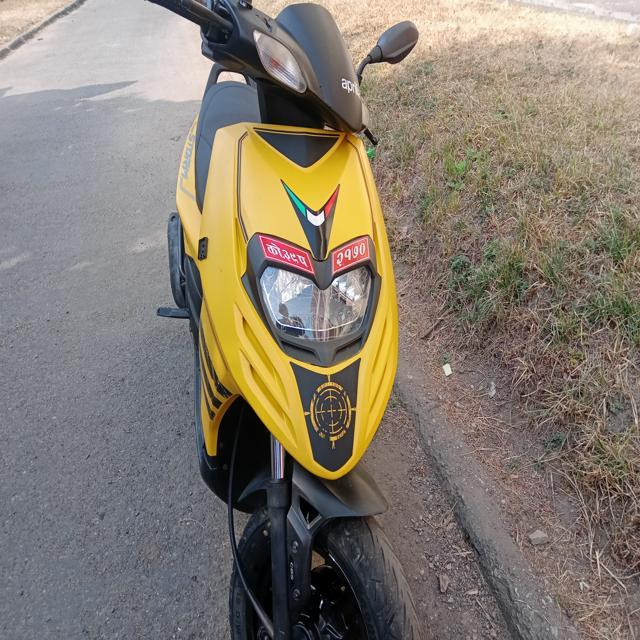license_plate: (252, 225, 386, 300)
